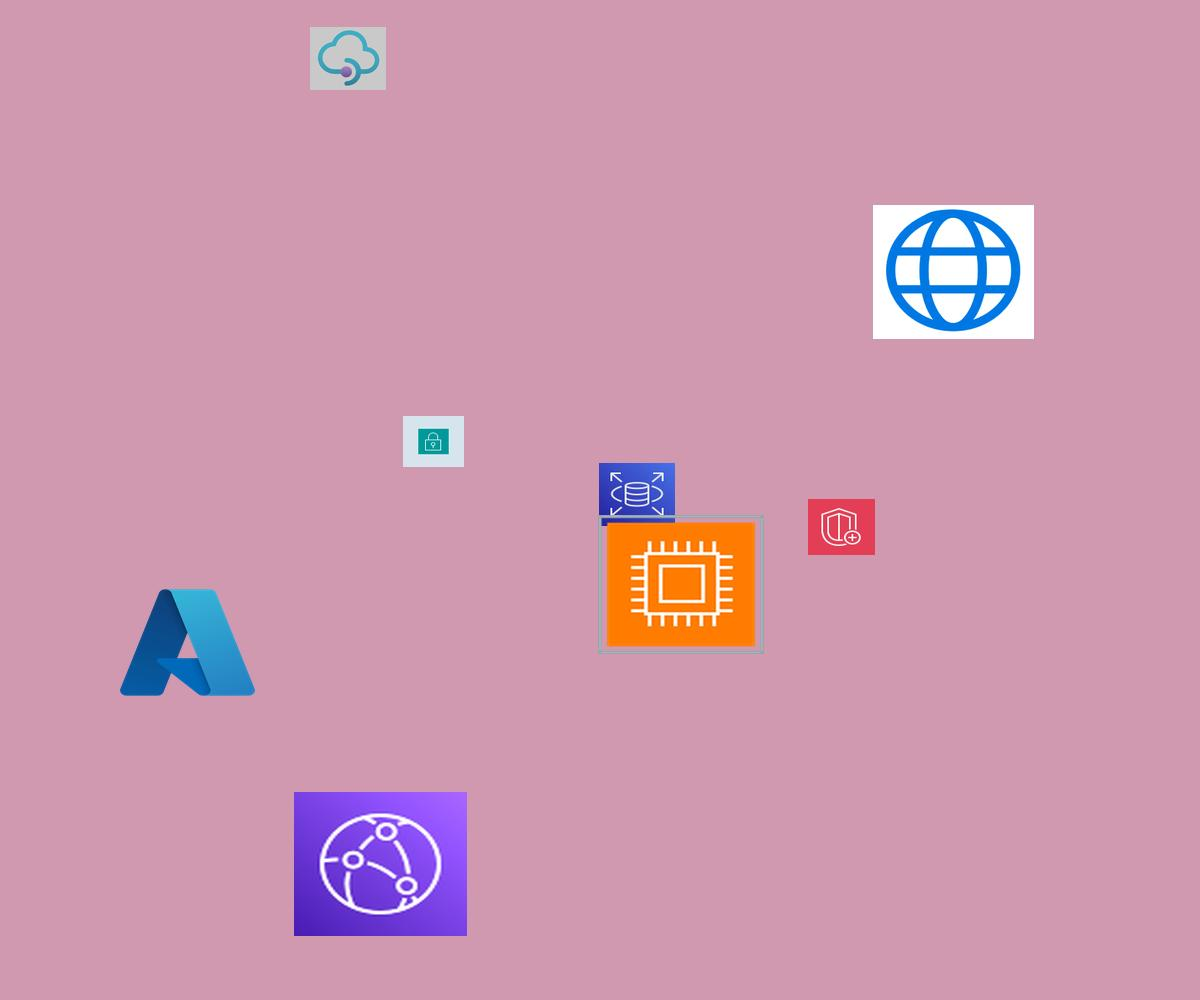AWS-Category_Compute: (598, 515, 764, 654)
AWS-CloudFront: (294, 792, 467, 936)
AWS-Private-subnet: (403, 416, 464, 467)
AWS-RDS: (599, 463, 675, 526)
AWS-Shield: (808, 499, 875, 555)
Azure_api_gateway: (310, 27, 386, 90)
Azure_http: (873, 205, 1034, 339)
Azure_services: (114, 581, 261, 704)
